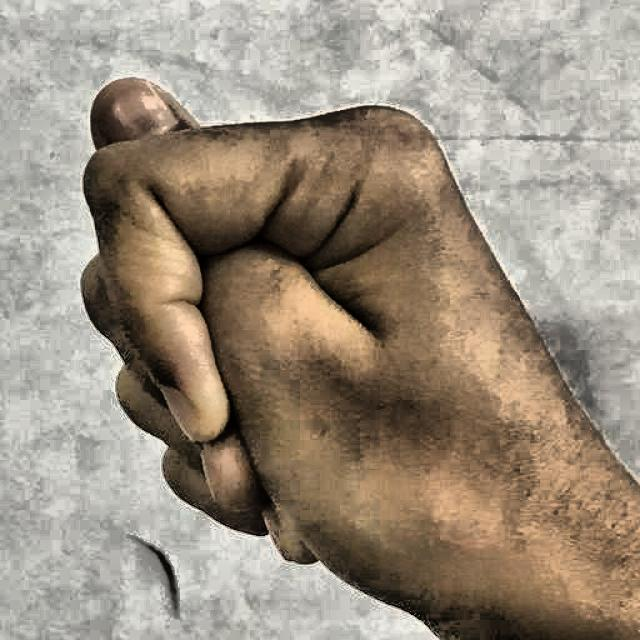Ta: (47, 32, 586, 635)
